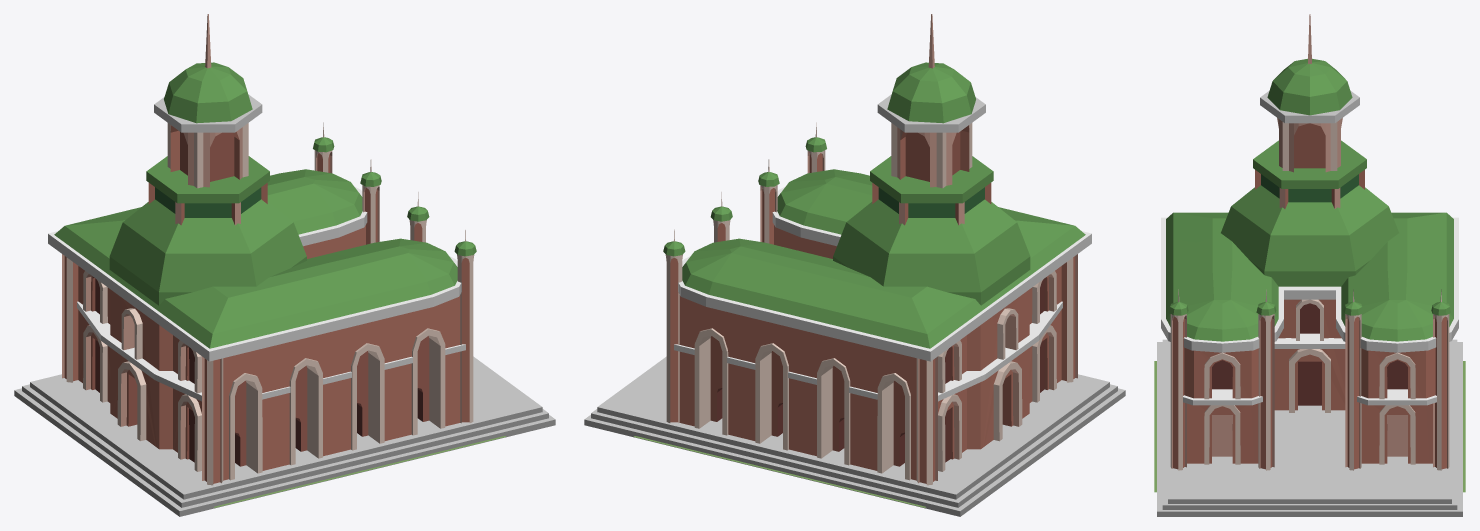
File: city10.obj
3 views of the same model, side by side, from view 1: azimuth 30°, elevation 25°; view 2: azimuth 150°, elevation 25°; view 3: azimuth 270°, elevation 25° (orthographic). The views are drawn at different scales.
Parts seen in each view (by area): view 1: home_temple.008_Plane.490, Plane.057_Plane.802; view 2: home_temple.008_Plane.490, Plane.057_Plane.802; view 3: home_temple.008_Plane.490, Plane.057_Plane.802.
Boxes of the visible parts, left/top/right/bottom form: home_temple.008_Plane.490: left=14, top=14, right=555, bottom=516; Plane.057_Plane.802: left=214, top=436, right=506, bottom=507; home_temple.008_Plane.490: left=584, top=14, right=1125, bottom=516; Plane.057_Plane.802: left=633, top=436, right=925, bottom=507; home_temple.008_Plane.490: left=1157, top=14, right=1462, bottom=516; Plane.057_Plane.802: left=1154, top=361, right=1465, bottom=492.
Size of the model in its own units: 0.1032 by 0.1088 by 0.08.
Materials: 2 (2 with a texture image).
